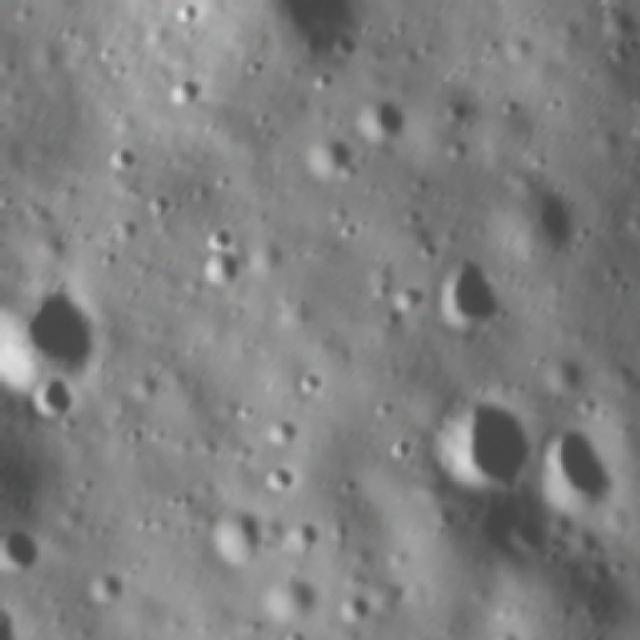crater: (418, 392, 536, 494), (0, 283, 103, 392), (524, 412, 618, 522), (237, 0, 371, 69), (490, 184, 590, 264), (426, 256, 516, 341), (206, 497, 272, 571), (259, 564, 324, 624), (348, 92, 410, 152), (296, 129, 358, 182), (0, 518, 49, 580), (188, 247, 249, 296), (24, 367, 84, 416), (502, 510, 558, 558), (192, 217, 251, 257), (258, 456, 304, 506), (160, 70, 208, 116), (331, 581, 377, 628), (256, 406, 302, 452), (387, 275, 431, 320), (286, 358, 329, 400), (89, 562, 126, 610), (278, 515, 320, 556), (102, 138, 146, 177), (0, 574, 22, 640), (170, 0, 206, 35), (444, 93, 476, 129), (381, 428, 413, 463), (273, 618, 309, 640), (368, 392, 394, 422), (484, 624, 526, 640), (382, 632, 450, 640), (531, 631, 580, 640)
